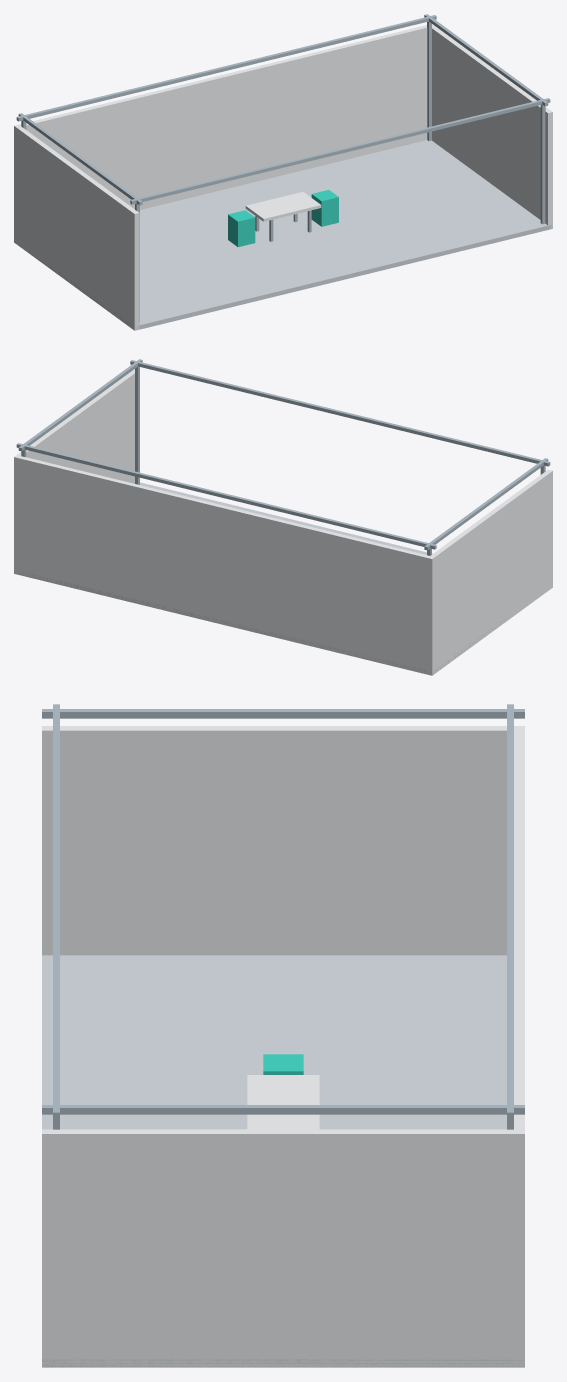
3 renders of one model, top to bottom at view 1: azimuth 30°, elevation 25°; view 2: azimuth 150°, elevation 25°; view 3: azimuth 270°, elevation 25°, orthographic. The views are drawn at different scales.
Parts seen in each view (by area): view 1: Exhibition Booth Concept; view 2: Exhibition Booth Concept; view 3: Exhibition Booth Concept.
Boxes of the visible parts, x1,y1,x2,y2 form: Exhibition Booth Concept: [14, 14, 552, 330]; Exhibition Booth Concept: [14, 359, 552, 675]; Exhibition Booth Concept: [42, 704, 524, 1367].
Bounding box in the file's own units: 12 × 3.49 × 6.
